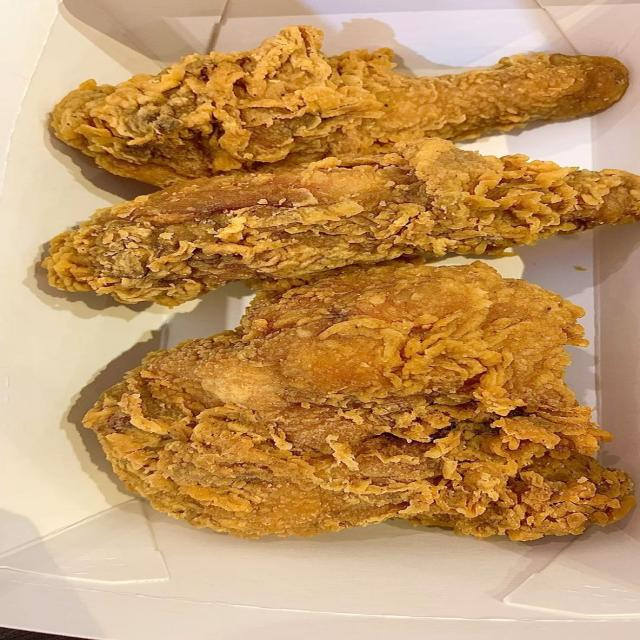Chicken -Fried Chicken-: (63, 254, 640, 578), (18, 150, 640, 278), (50, 32, 640, 149)
